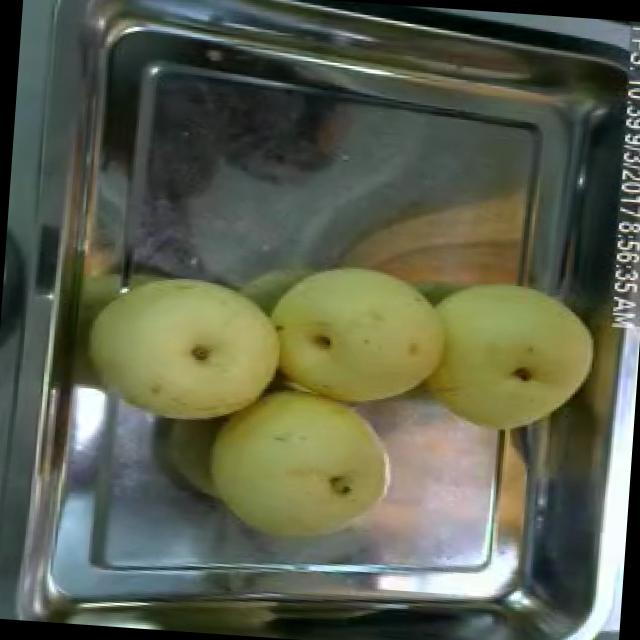Fruit: (192, 370, 408, 564), (74, 256, 296, 440), (402, 264, 611, 448), (338, 172, 573, 317), (255, 252, 452, 421)
